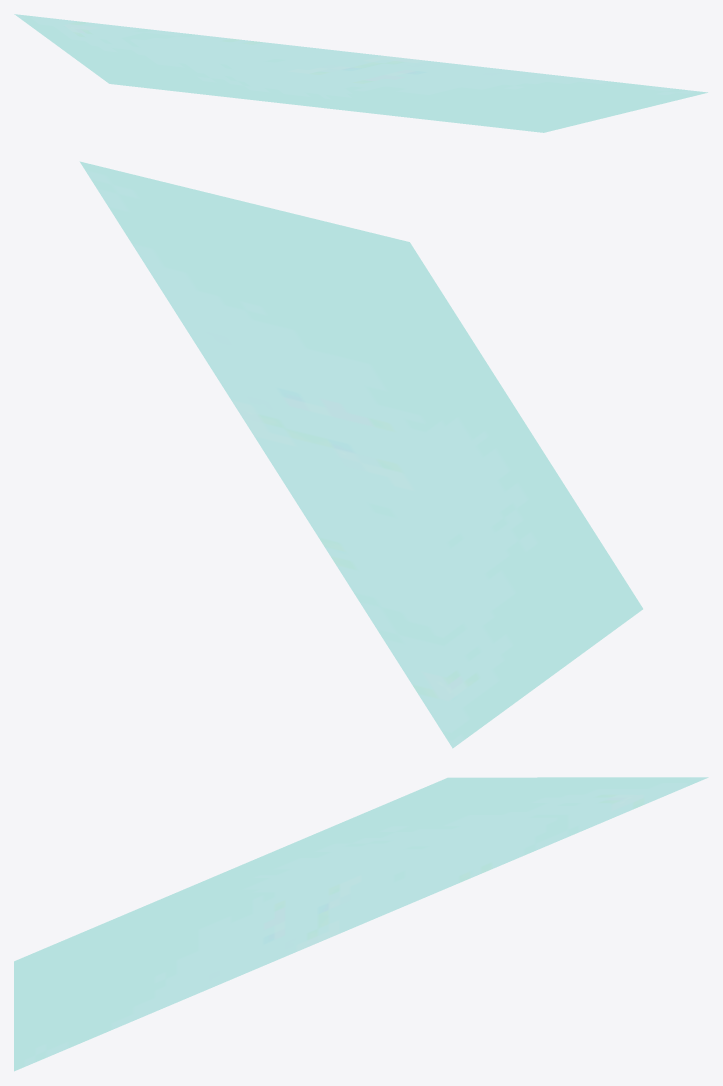
File: wavewalldiagonal.fbx
3 renders of one model, top to bottom at view 1: azimuth 30°, elevation 25°; view 2: azimuth 150°, elevation 25°; view 3: azimuth 270°, elevation 25°, orthographic. The views are drawn at different scales.
Visible parts, largest first — view 1: crypt_wave; view 2: crypt_wave; view 3: crypt_wave.
Boxes of the visible parts, x1,y1,x2,y2 form: crypt_wave: [14, 14, 707, 132]; crypt_wave: [79, 161, 642, 748]; crypt_wave: [14, 777, 708, 1071].
Bounding box in the file's own units: 4 × 0.000526 × 4.
